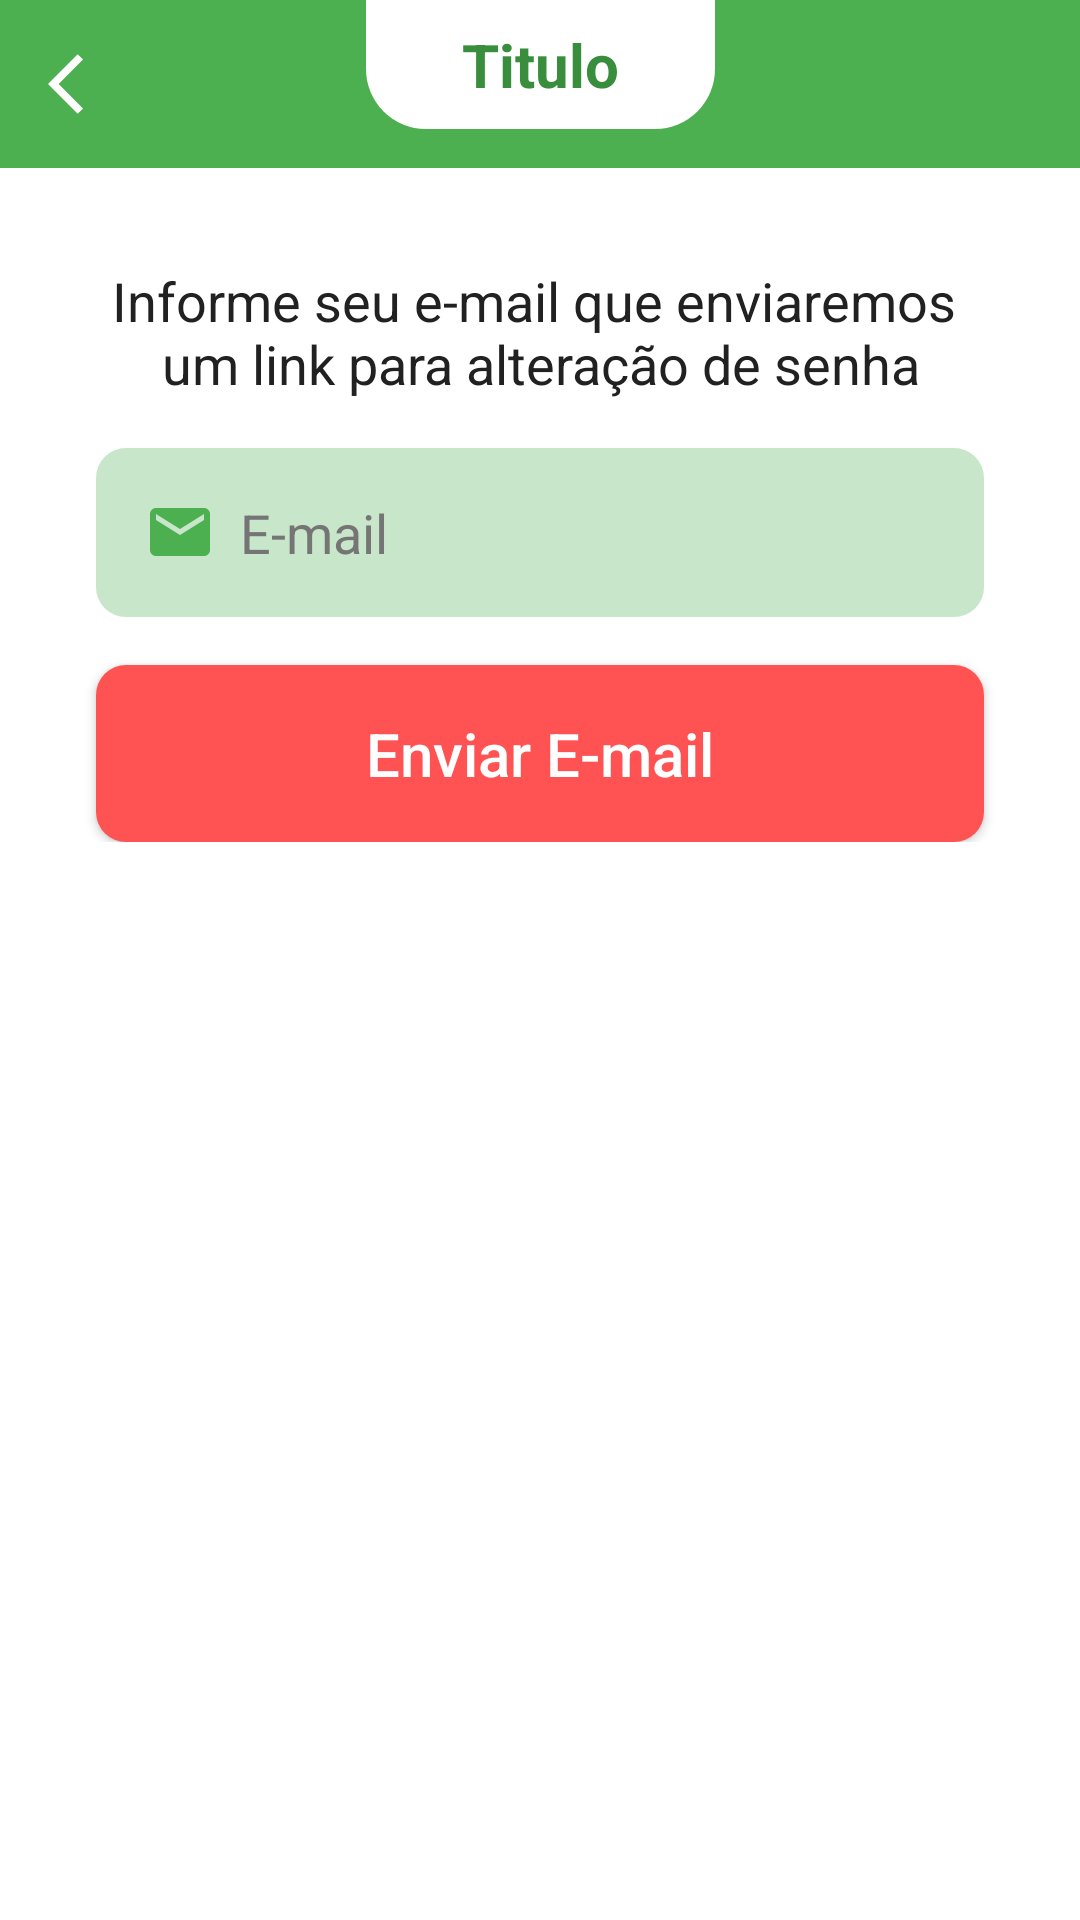

Where to tap for icons on this 1080*1920 app screen, as (x=x, y=y):
voltar: (x=65, y=84)
